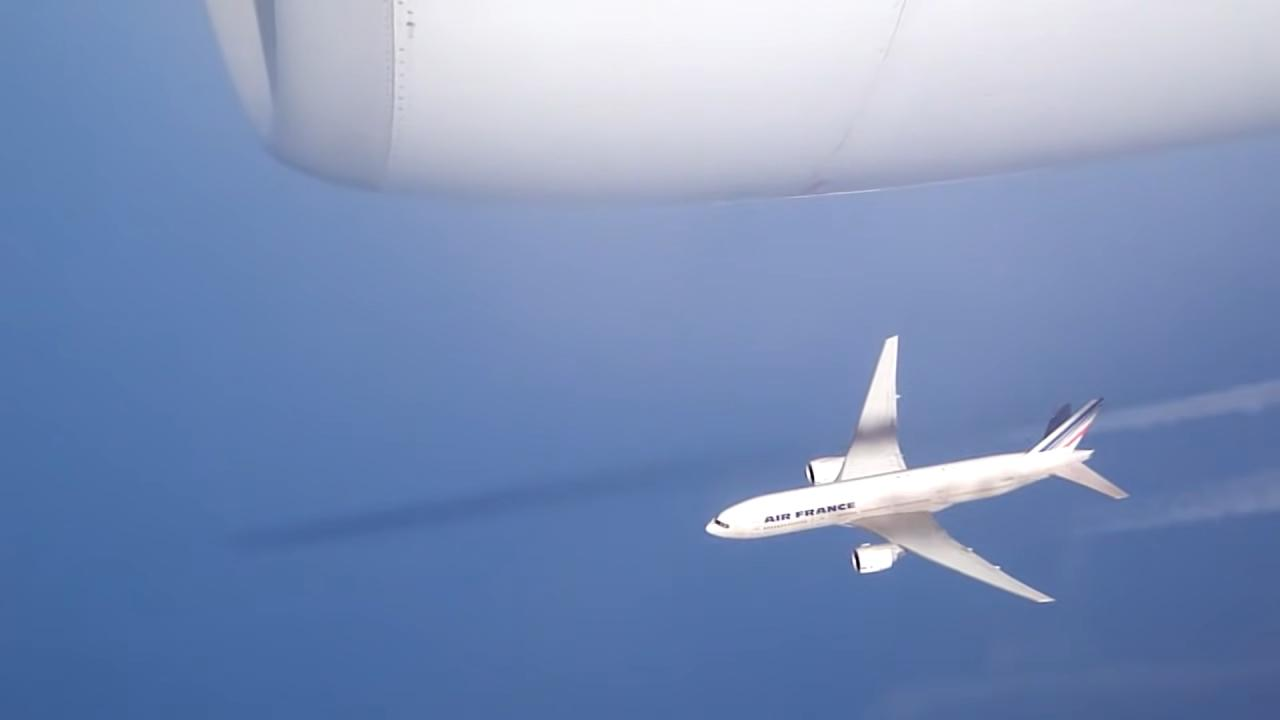Airplane: (694, 324, 1139, 622)
